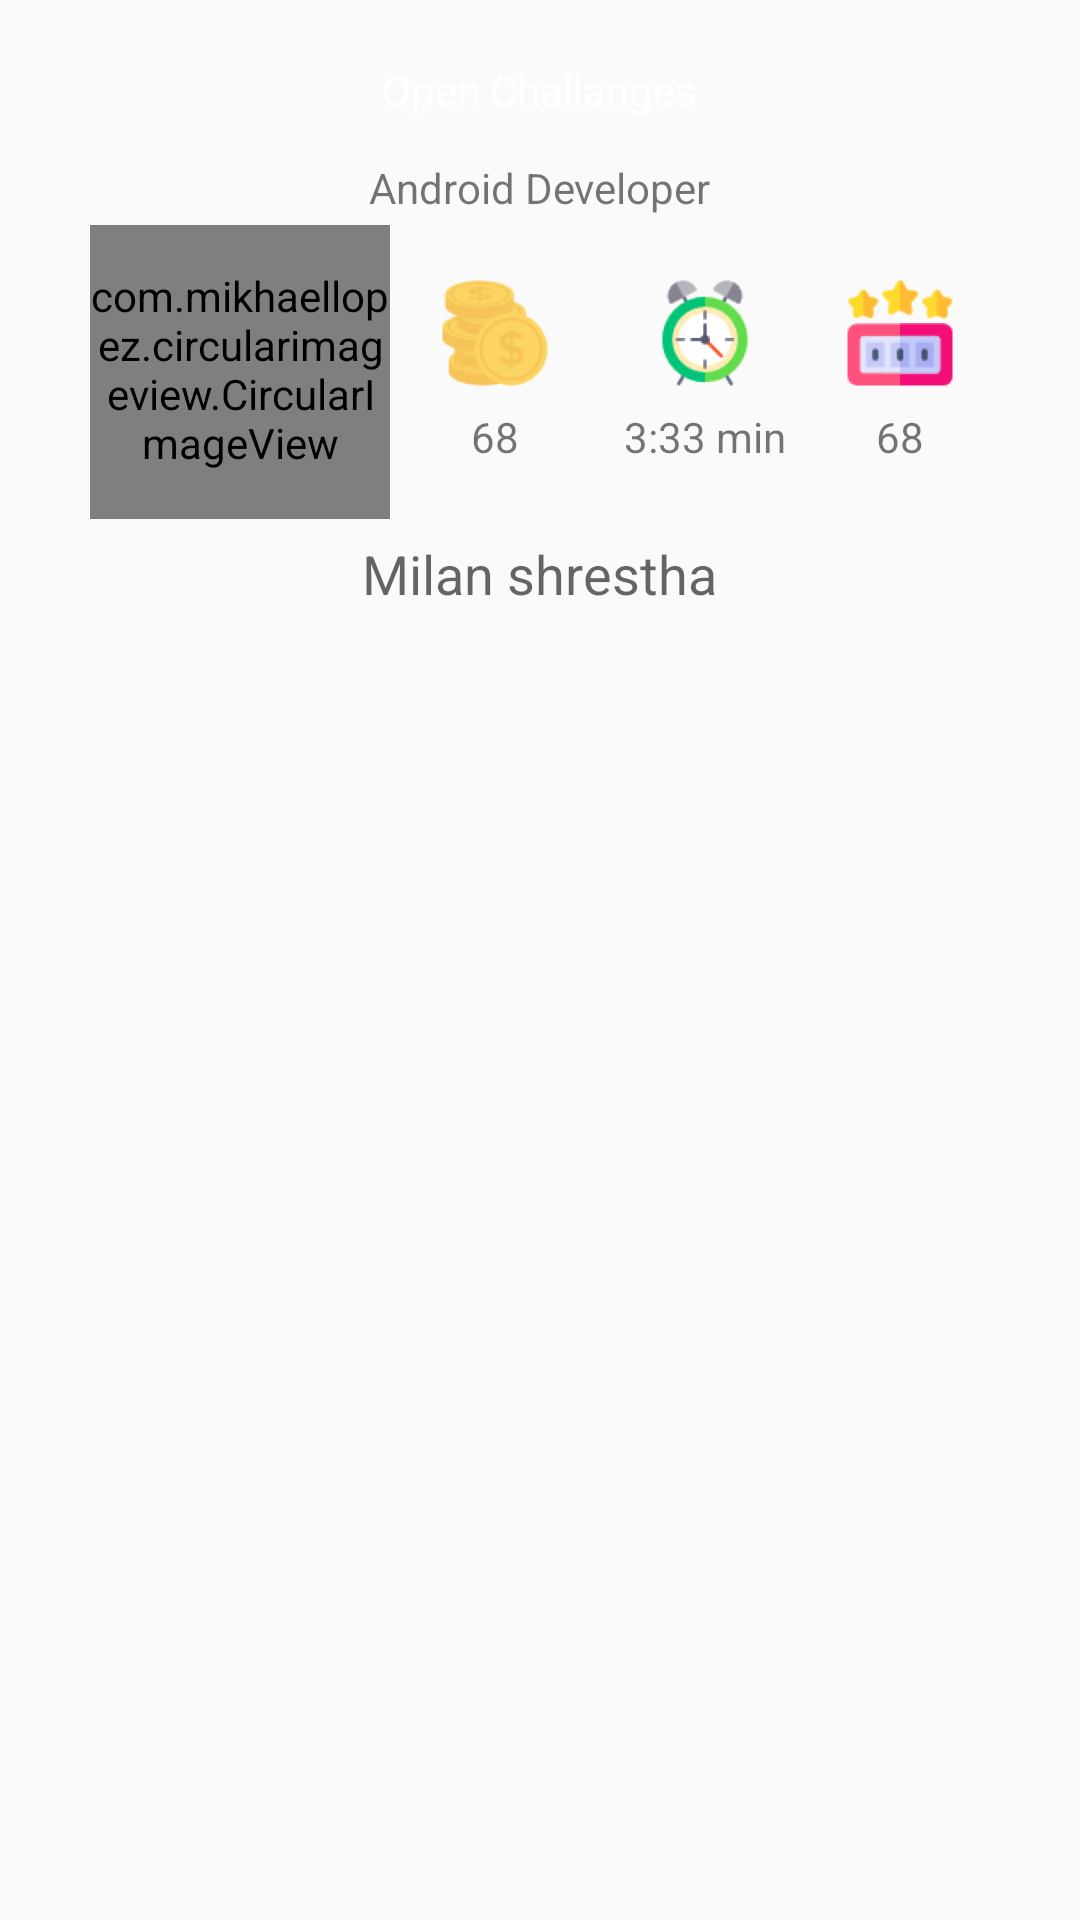

Where to tap for icons on this 1080 x 1920 app screen, as (x=x, y=y):
coines: (x=495, y=333)
points: (x=900, y=333)
timer: (x=705, y=333)
